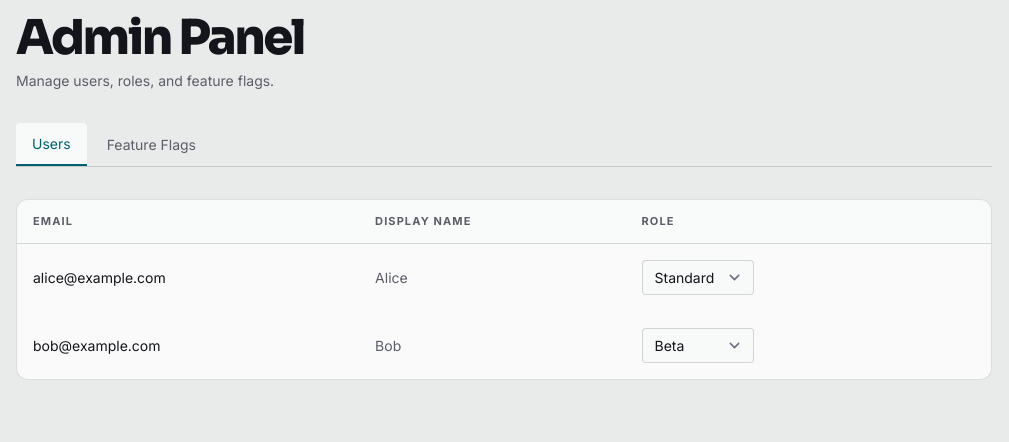
Test case: AdminPage › shows an error message when setAdminUserRole fails
expect the text "alice@example.com" is shown: met, box left=17, top=244, right=359, bottom=312
Select "Alpha" in the dropdown named "User role" in the row of "alice@example.com" at (698, 278), box left=642, top=260, right=754, bottom=295
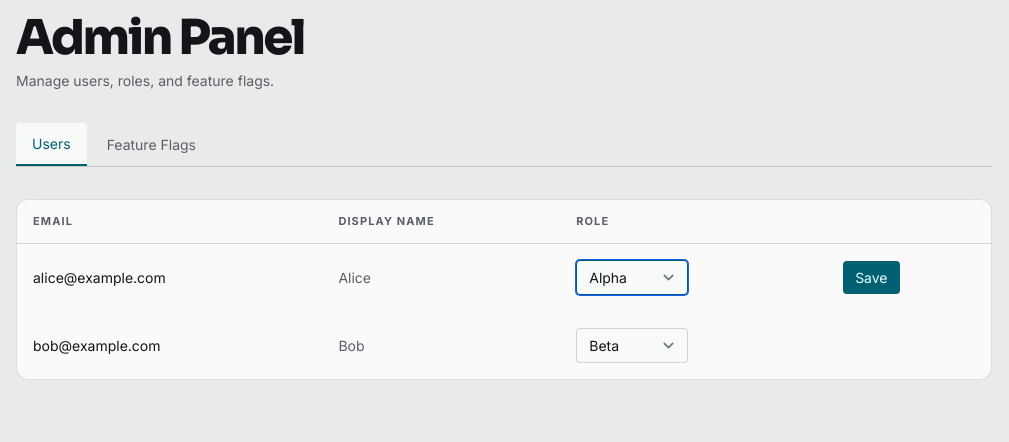
Click the button "Save".
click(871, 278)  # box left=843, top=261, right=900, bottom=294
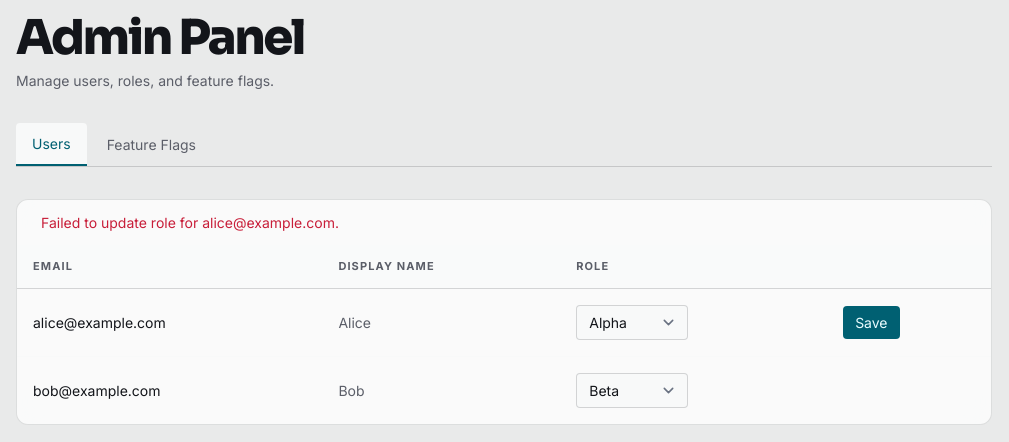
expect the text "Failed to update role for alice@example.com." is shown: met, box left=41, top=214, right=339, bottom=231
